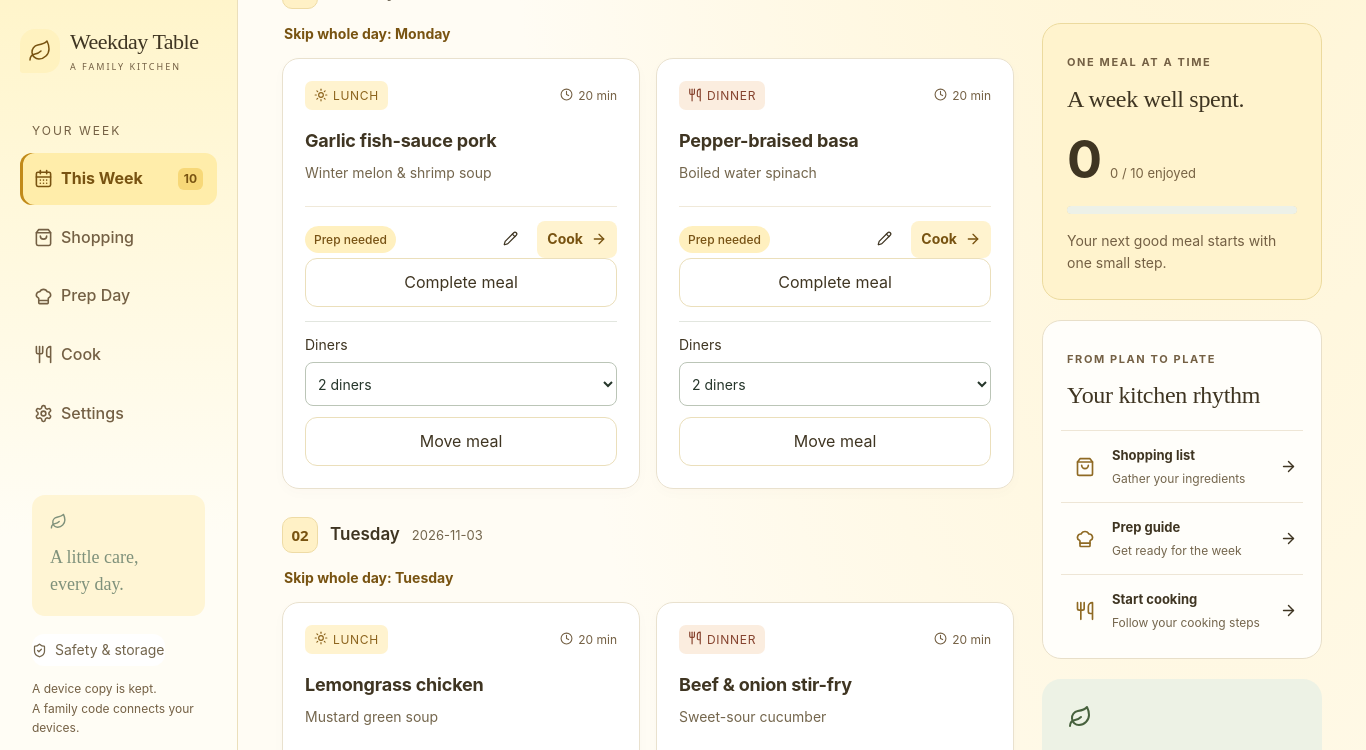
Test case: pauses stale edits and explicitly loads another tab's valid changes
(page scrolled)
Expected: the navigation bar is shown, [20,153,217,439]
Select "Not eating at home" in the dropdown named "Diners: Monday · Lunch". click: x=461, y=384
box: [305,362,617,406]
(page scrolled)
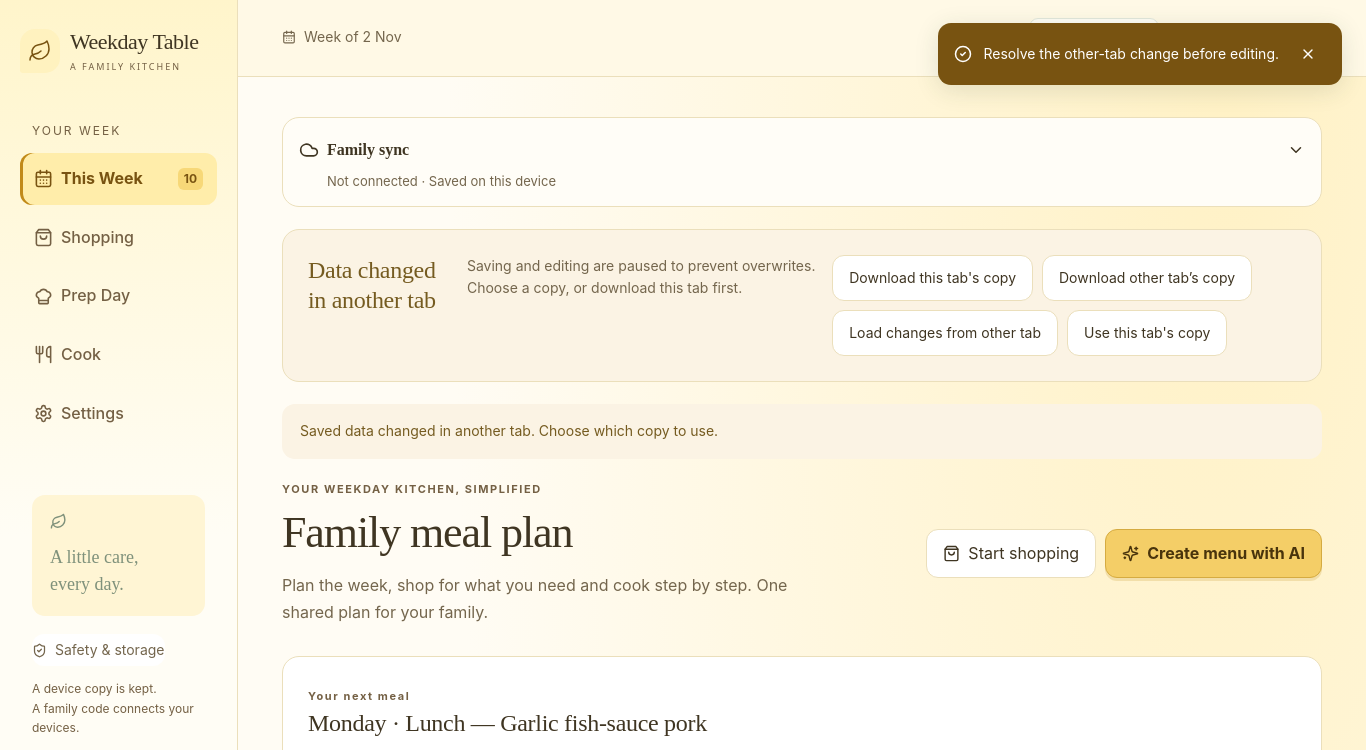
Click the button "Load changes from other tab". click: x=945, y=333
box: [832,310,1058,356]
(page scrolled)
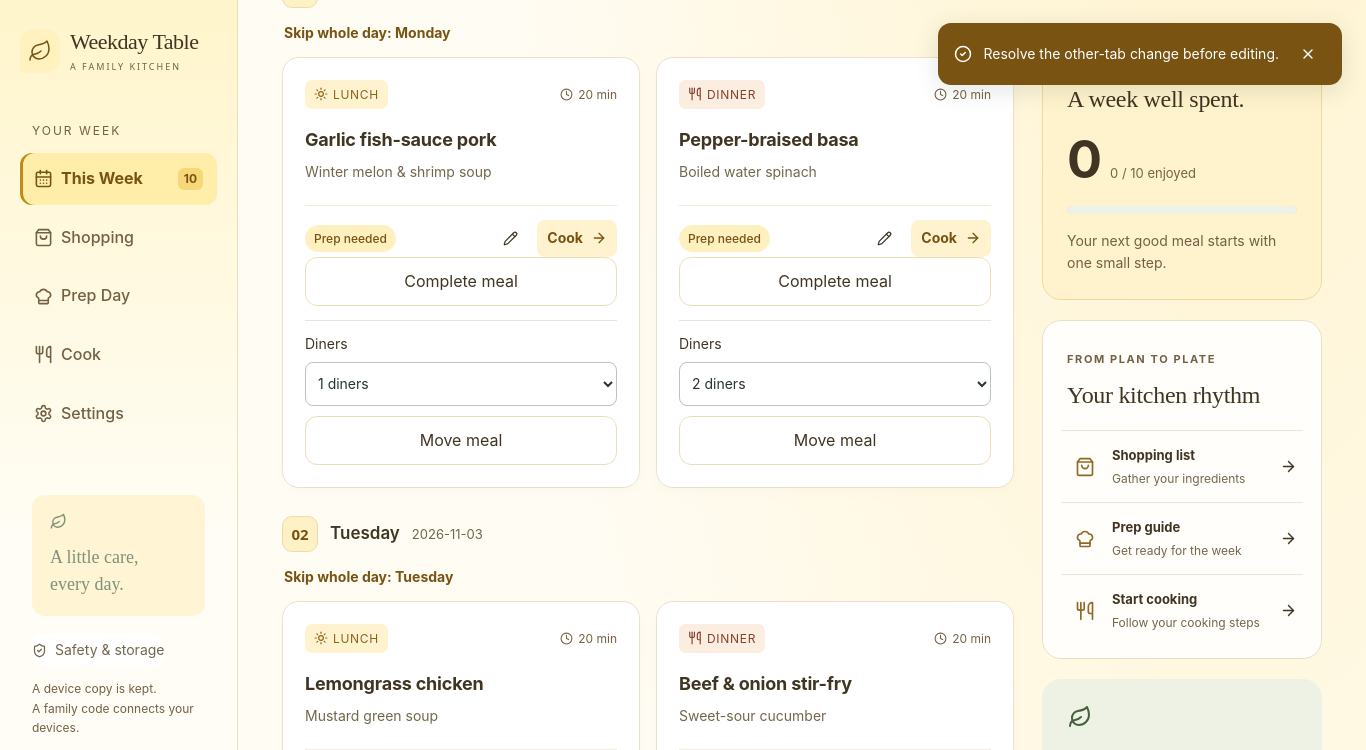
Result: the heading "Data changed in another tab" is gone
